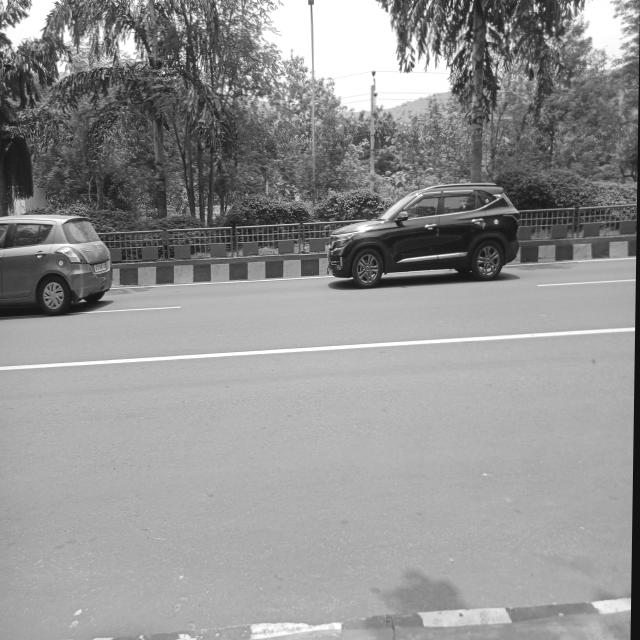car: (323, 164, 533, 295), (0, 200, 120, 309)
